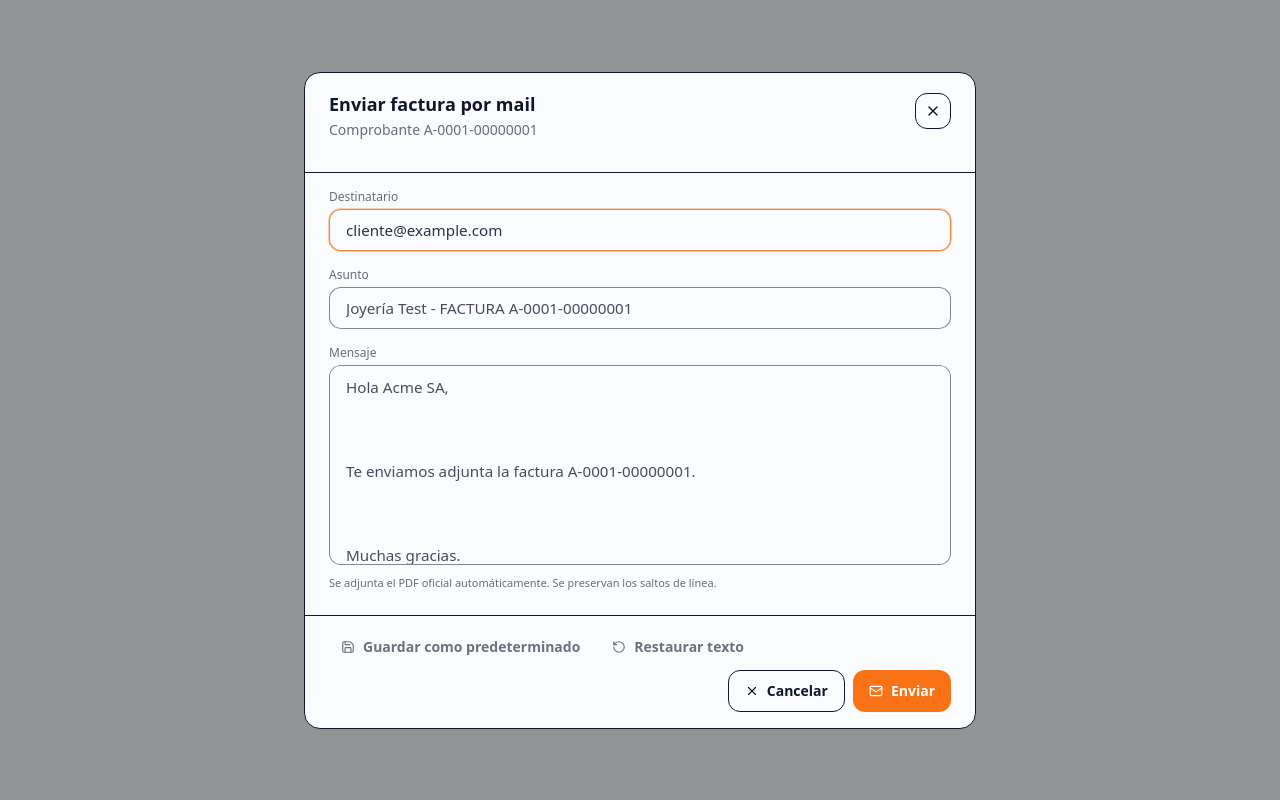
Test case: SendInvoiceEmailModal — boton 'Restaurar texto' › se habilita al modificar y restaura subject + message al default
Replace the text in the field below "Asunto" with "Hola cambiado" at (640, 307), box 329,286 -> 951,328
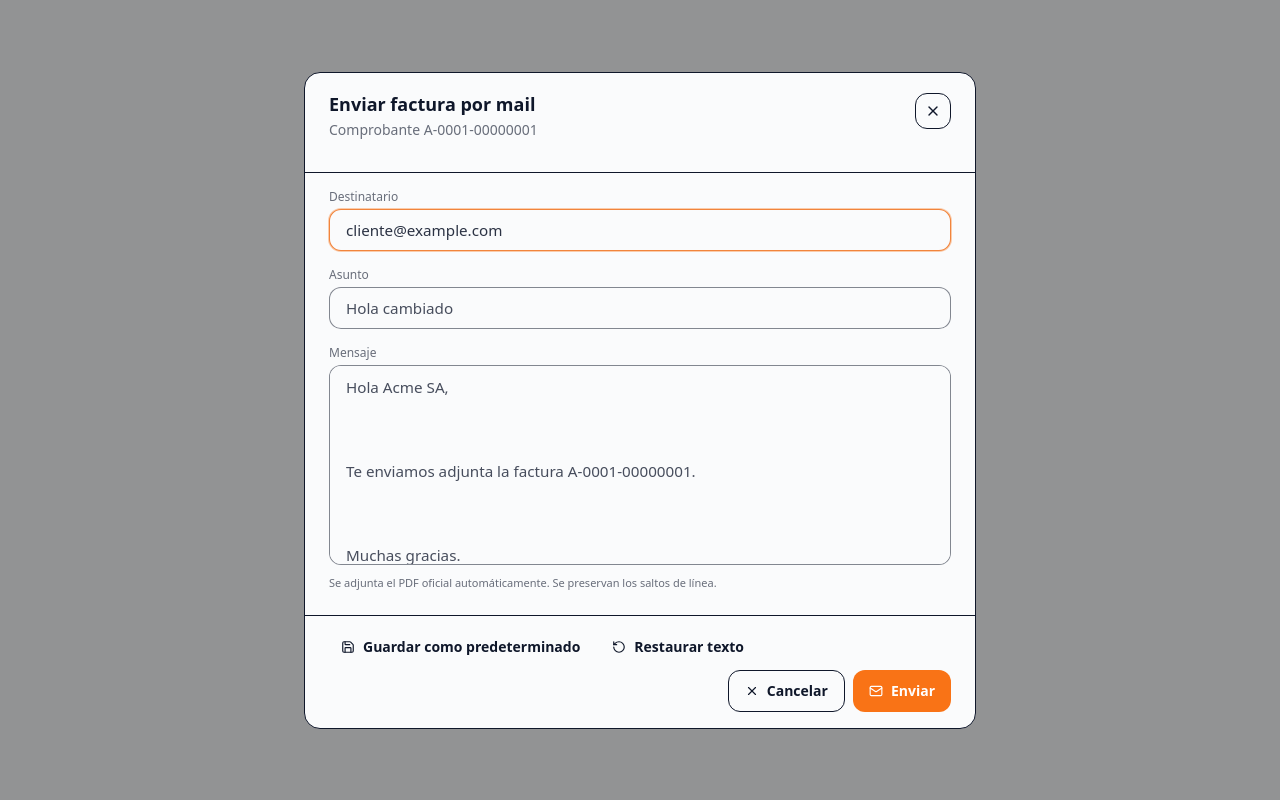
Replace the text in the text box with "Mensaje cambiado" at (640, 464), box 329,364 -> 951,564
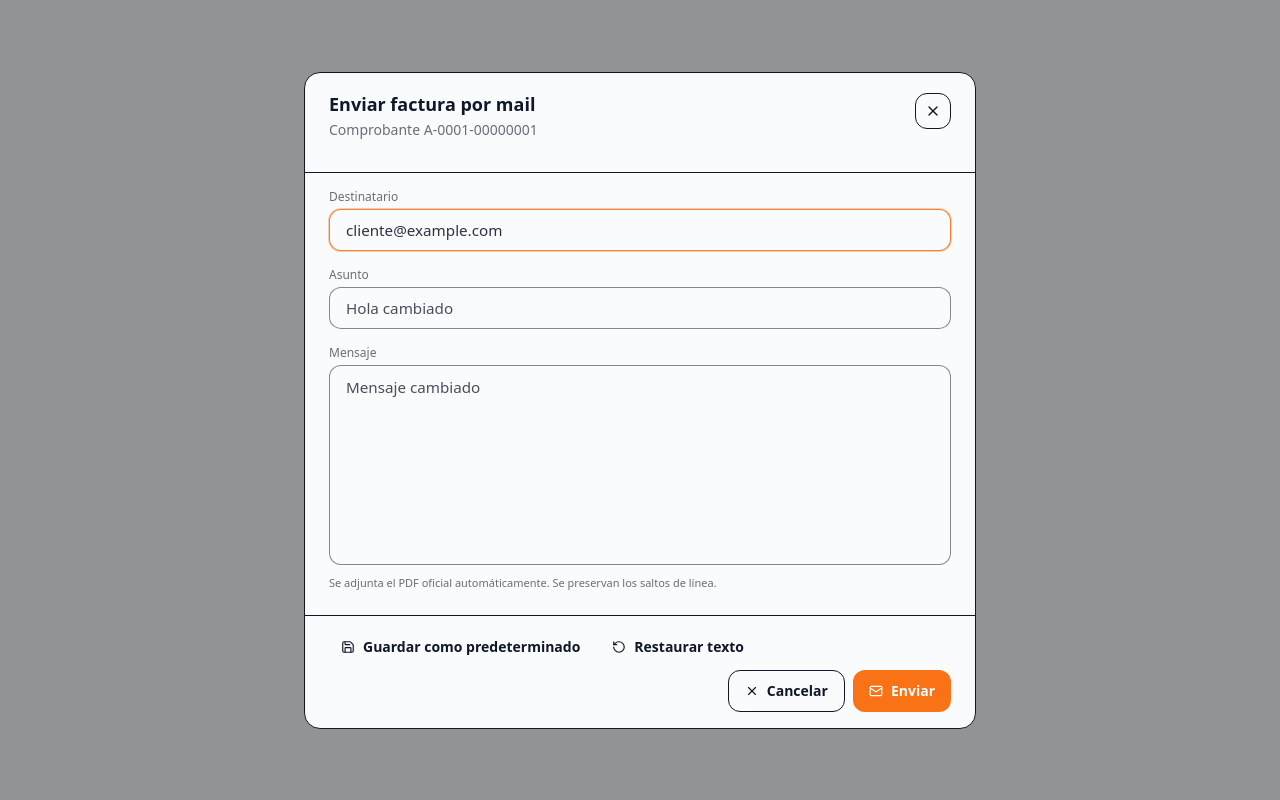
Check: the button "Restaurar texto" is enabled
Click the button "Restaurar texto".
click(678, 646)  # box 600,632 -> 756,662
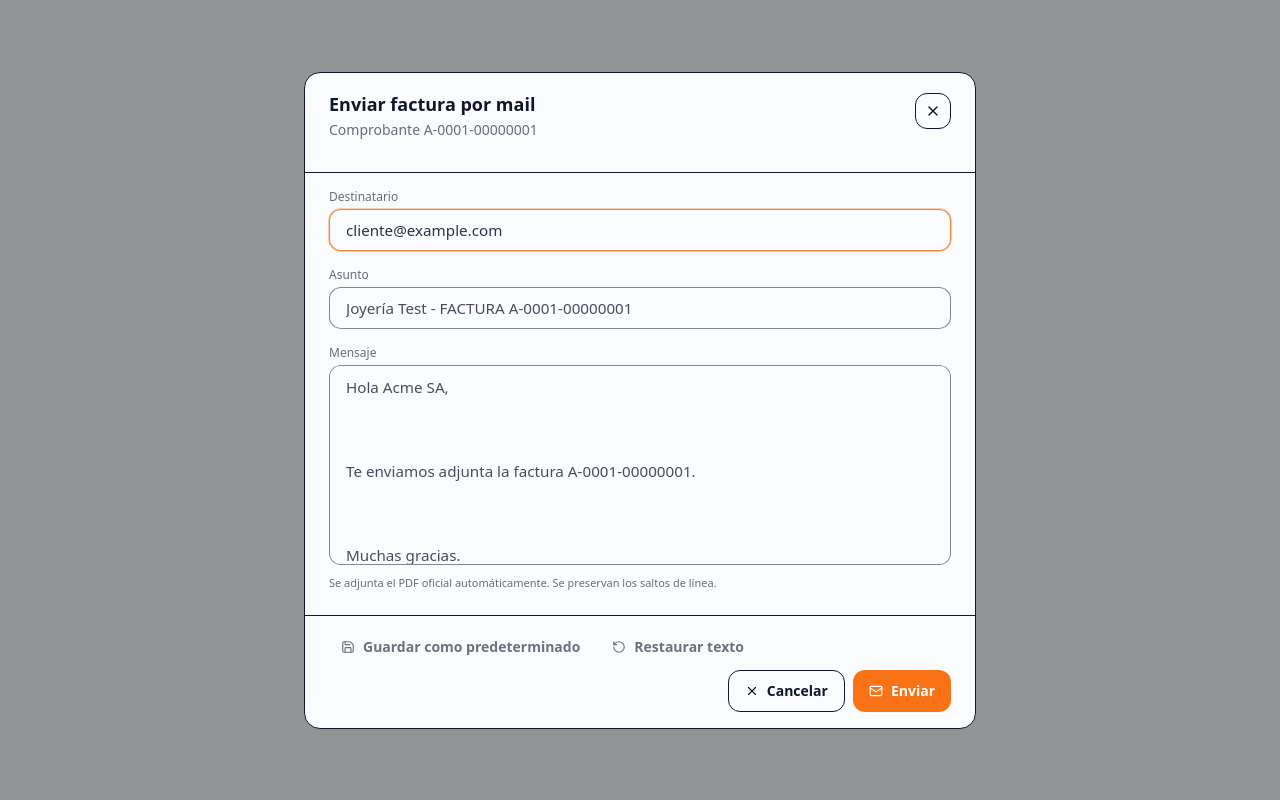
Check: the field below "Asunto" holds "Joyería Test - FACTURA A-0001-00000001", box 329,286 -> 951,328
Check: the button "Restaurar texto" is disabled, box 600,632 -> 756,662
